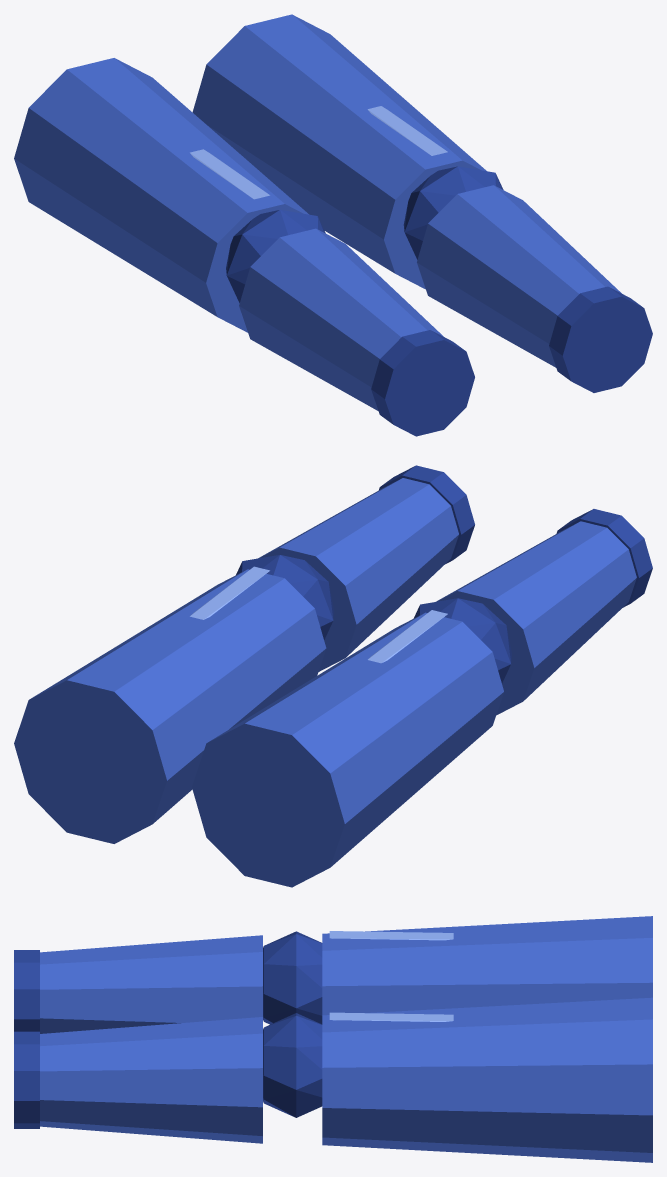
Rendered from drop_mithril_legs.glb.
The picture shows the model from 3 angles, top to bottom: view 1: azimuth 30°, elevation 25°; view 2: azimuth 150°, elevation 25°; view 3: azimuth 270°, elevation 25°; orthographic projection. The views are drawn at different scales.
Visible parts, largest first — view 1: drop_mithril_legs; view 2: drop_mithril_legs; view 3: drop_mithril_legs.
Part boxes in pixels (box(x1,y1,x2,y2)): drop_mithril_legs: box(14, 14, 652, 436); drop_mithril_legs: box(14, 465, 652, 887); drop_mithril_legs: box(14, 916, 652, 1162).
Size of the model in its own units: 0.3872 by 0.1704 by 0.688.
